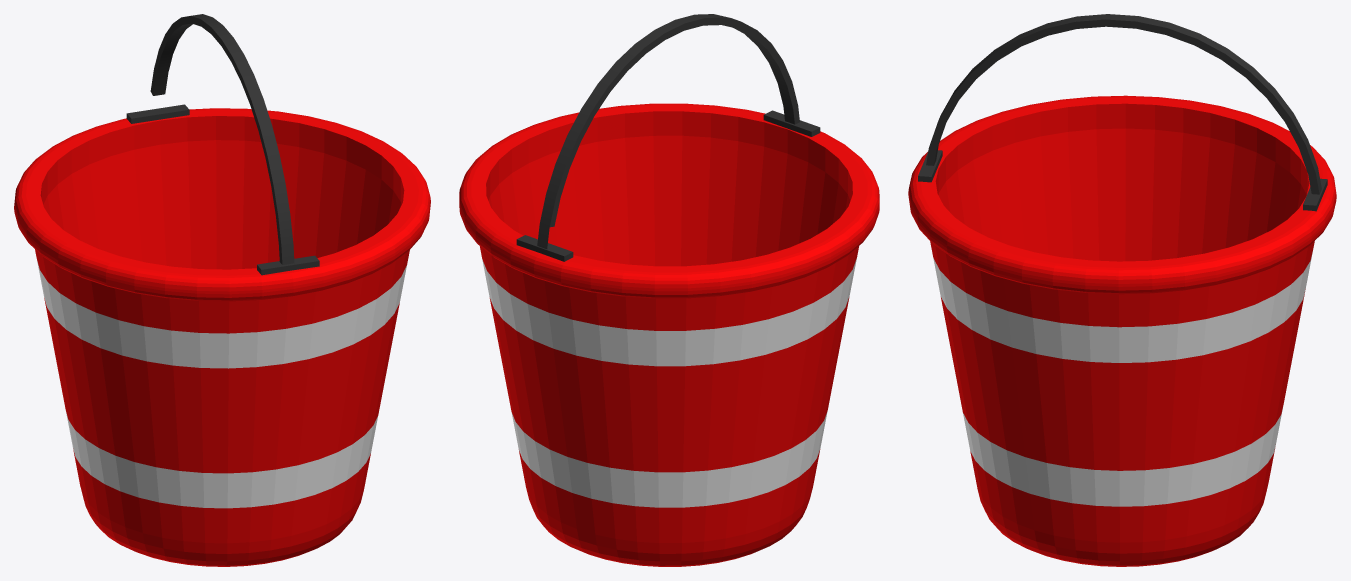
The model's file is dcrlVo3eQ_S.glb.
3 views of the same model, side by side, from view 1: azimuth 30°, elevation 25°; view 2: azimuth 150°, elevation 25°; view 3: azimuth 270°, elevation 25° (orthographic). The views are drawn at different scales.
Parts seen in each view (by area): view 1: Cylinder001, Box001; view 2: Cylinder001, Box001; view 3: Cylinder001, Box001.
Boxes of the visible parts, x1=… form: Cylinder001: x1=14, y1=108, x2=430, y2=566; Box001: x1=126, y1=14, x2=319, y2=275; Cylinder001: x1=459, y1=103, x2=879, y2=566; Box001: x1=516, y1=14, x2=820, y2=261; Cylinder001: x1=908, y1=95, x2=1336, y2=566; Box001: x1=918, y1=14, x2=1327, y2=211.
Size of the model in its own units: 0.7805 by 1 by 0.7805.
